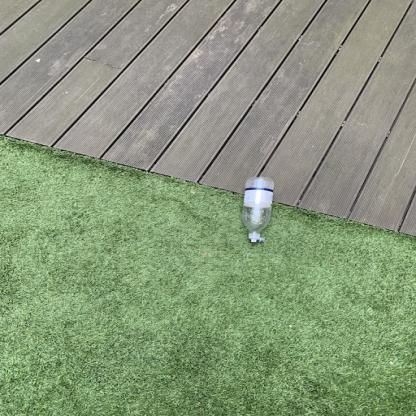trash: (238, 177, 278, 244)
